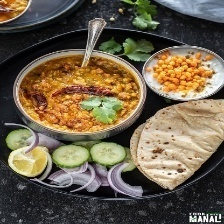dal: (16, 52, 142, 138)
